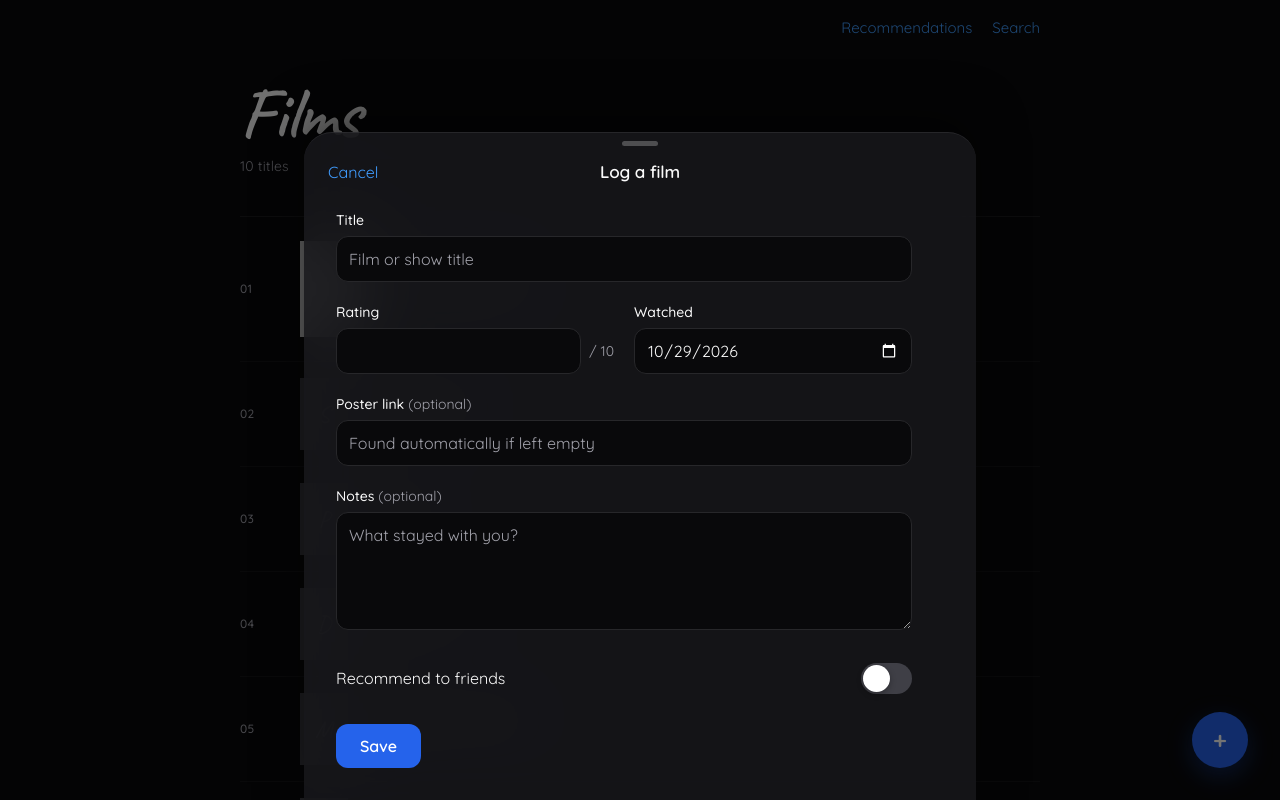
Test: automatic posters › closes suggestions on Escape without closing the sheet
Type "Parasite" into the field labelled "Title".
click(624, 259); type("Parasite")  # box [336, 236, 912, 282]
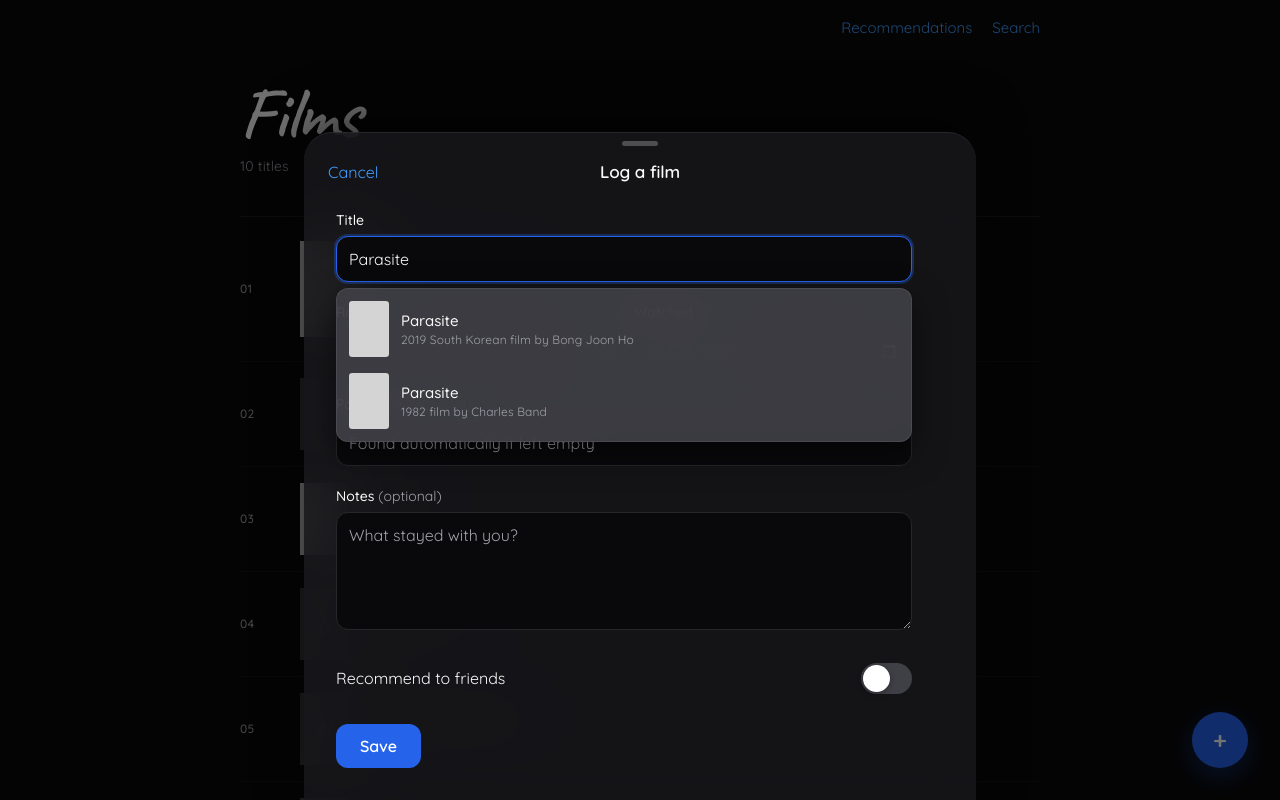
Result: the list named "Suggestions" is shown at [336, 288, 912, 442]
Press Escape
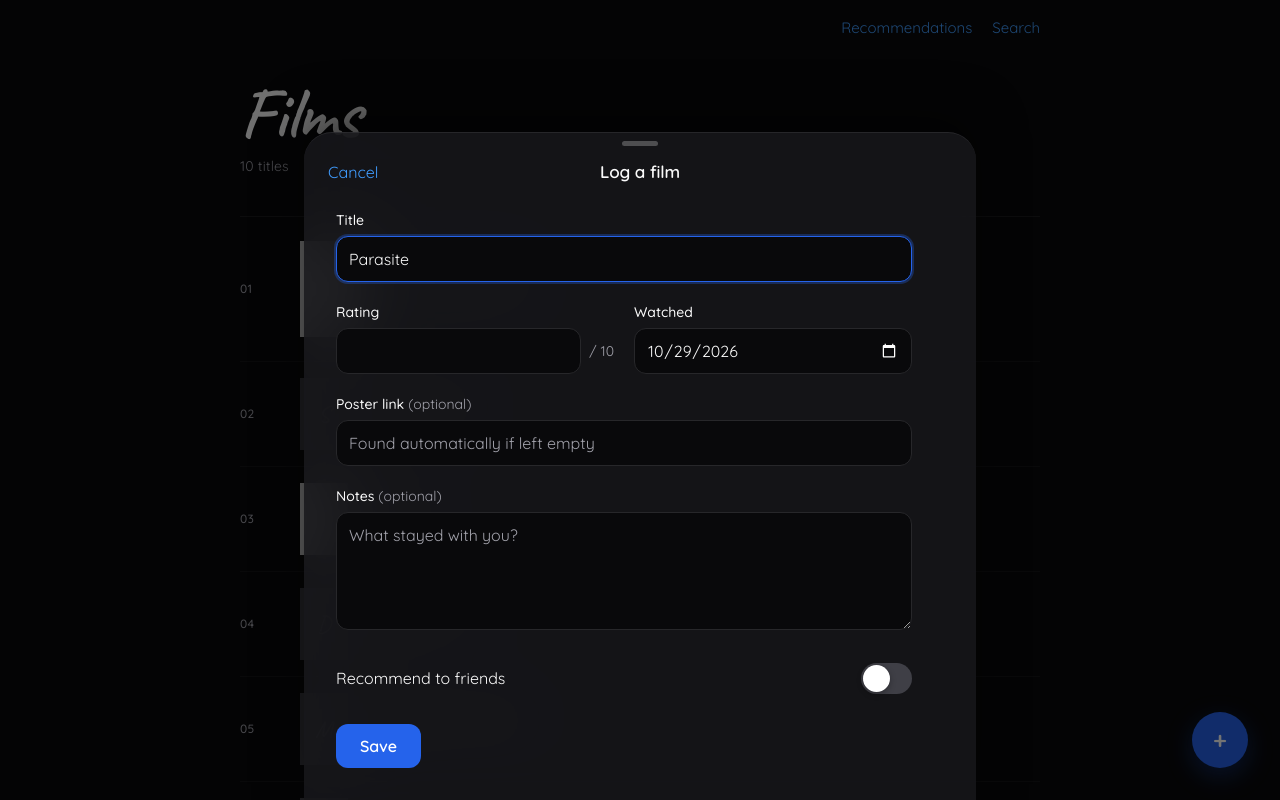
Result: the list "Suggestions" is gone
